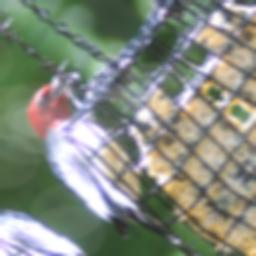Woodpecker: (0, 51, 237, 256)
